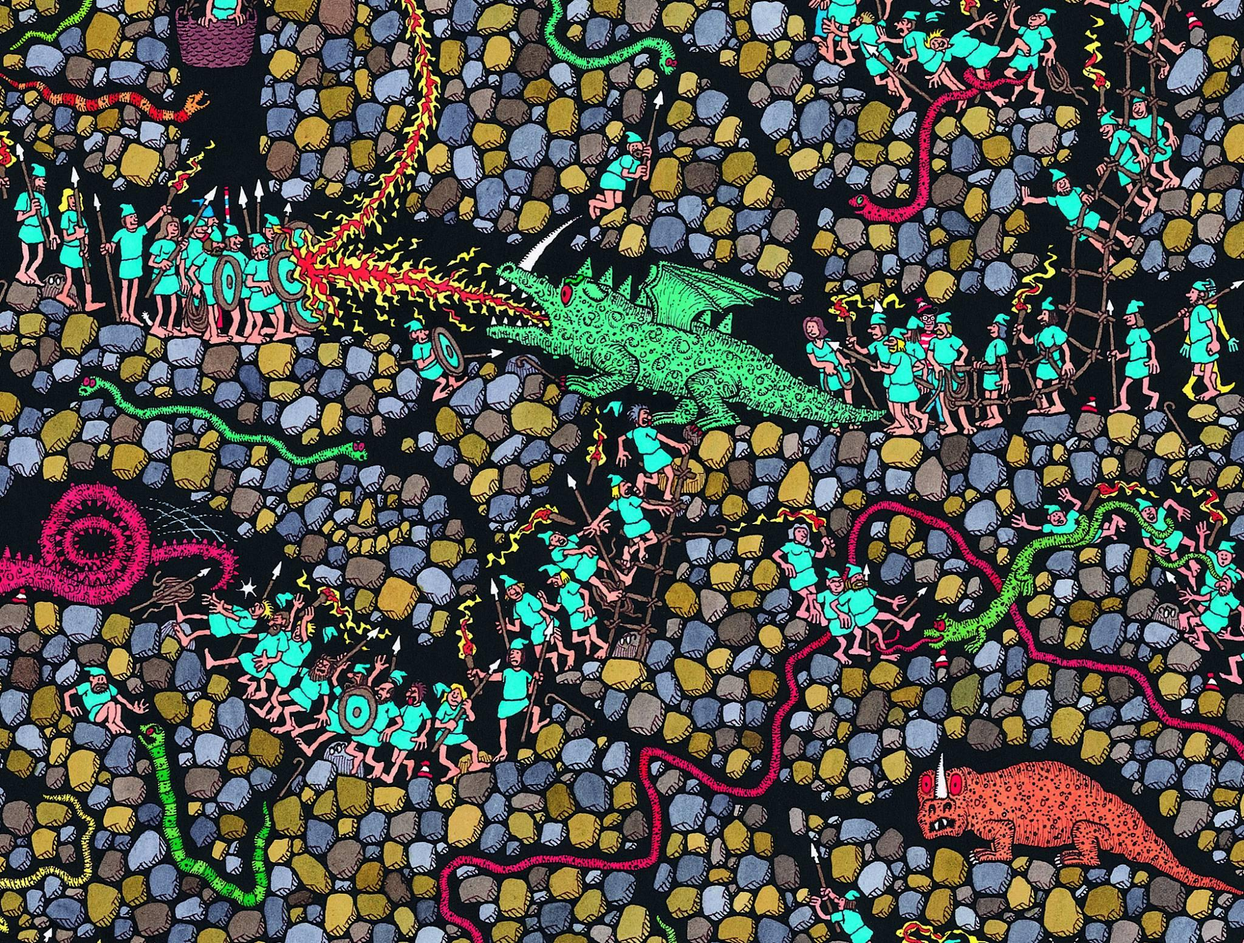waldo: (917, 300, 939, 346)
